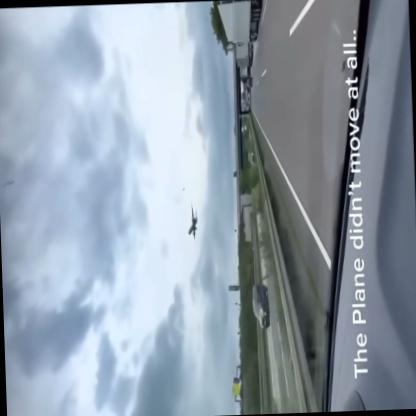plane: (185, 197, 204, 246)
